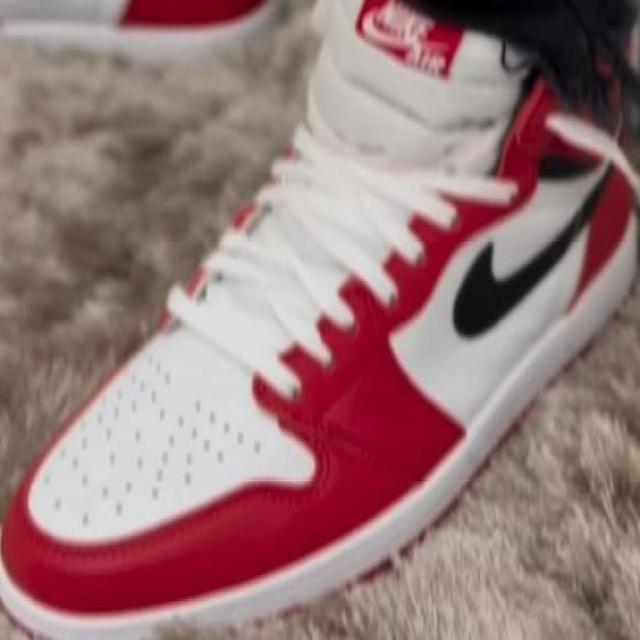J1_InsoleChar: (0, 0, 639, 639)
J1_ShoeLogo: (353, 0, 465, 81)
J1_ShoeShape: (0, 0, 326, 524), (369, 0, 639, 141)
J1_StitchPattern: (44, 125, 520, 536), (241, 150, 452, 353), (62, 356, 268, 522), (450, 157, 616, 339), (109, 392, 238, 478), (99, 408, 207, 496), (342, 527, 429, 594), (345, 554, 396, 592), (357, 559, 393, 582)
